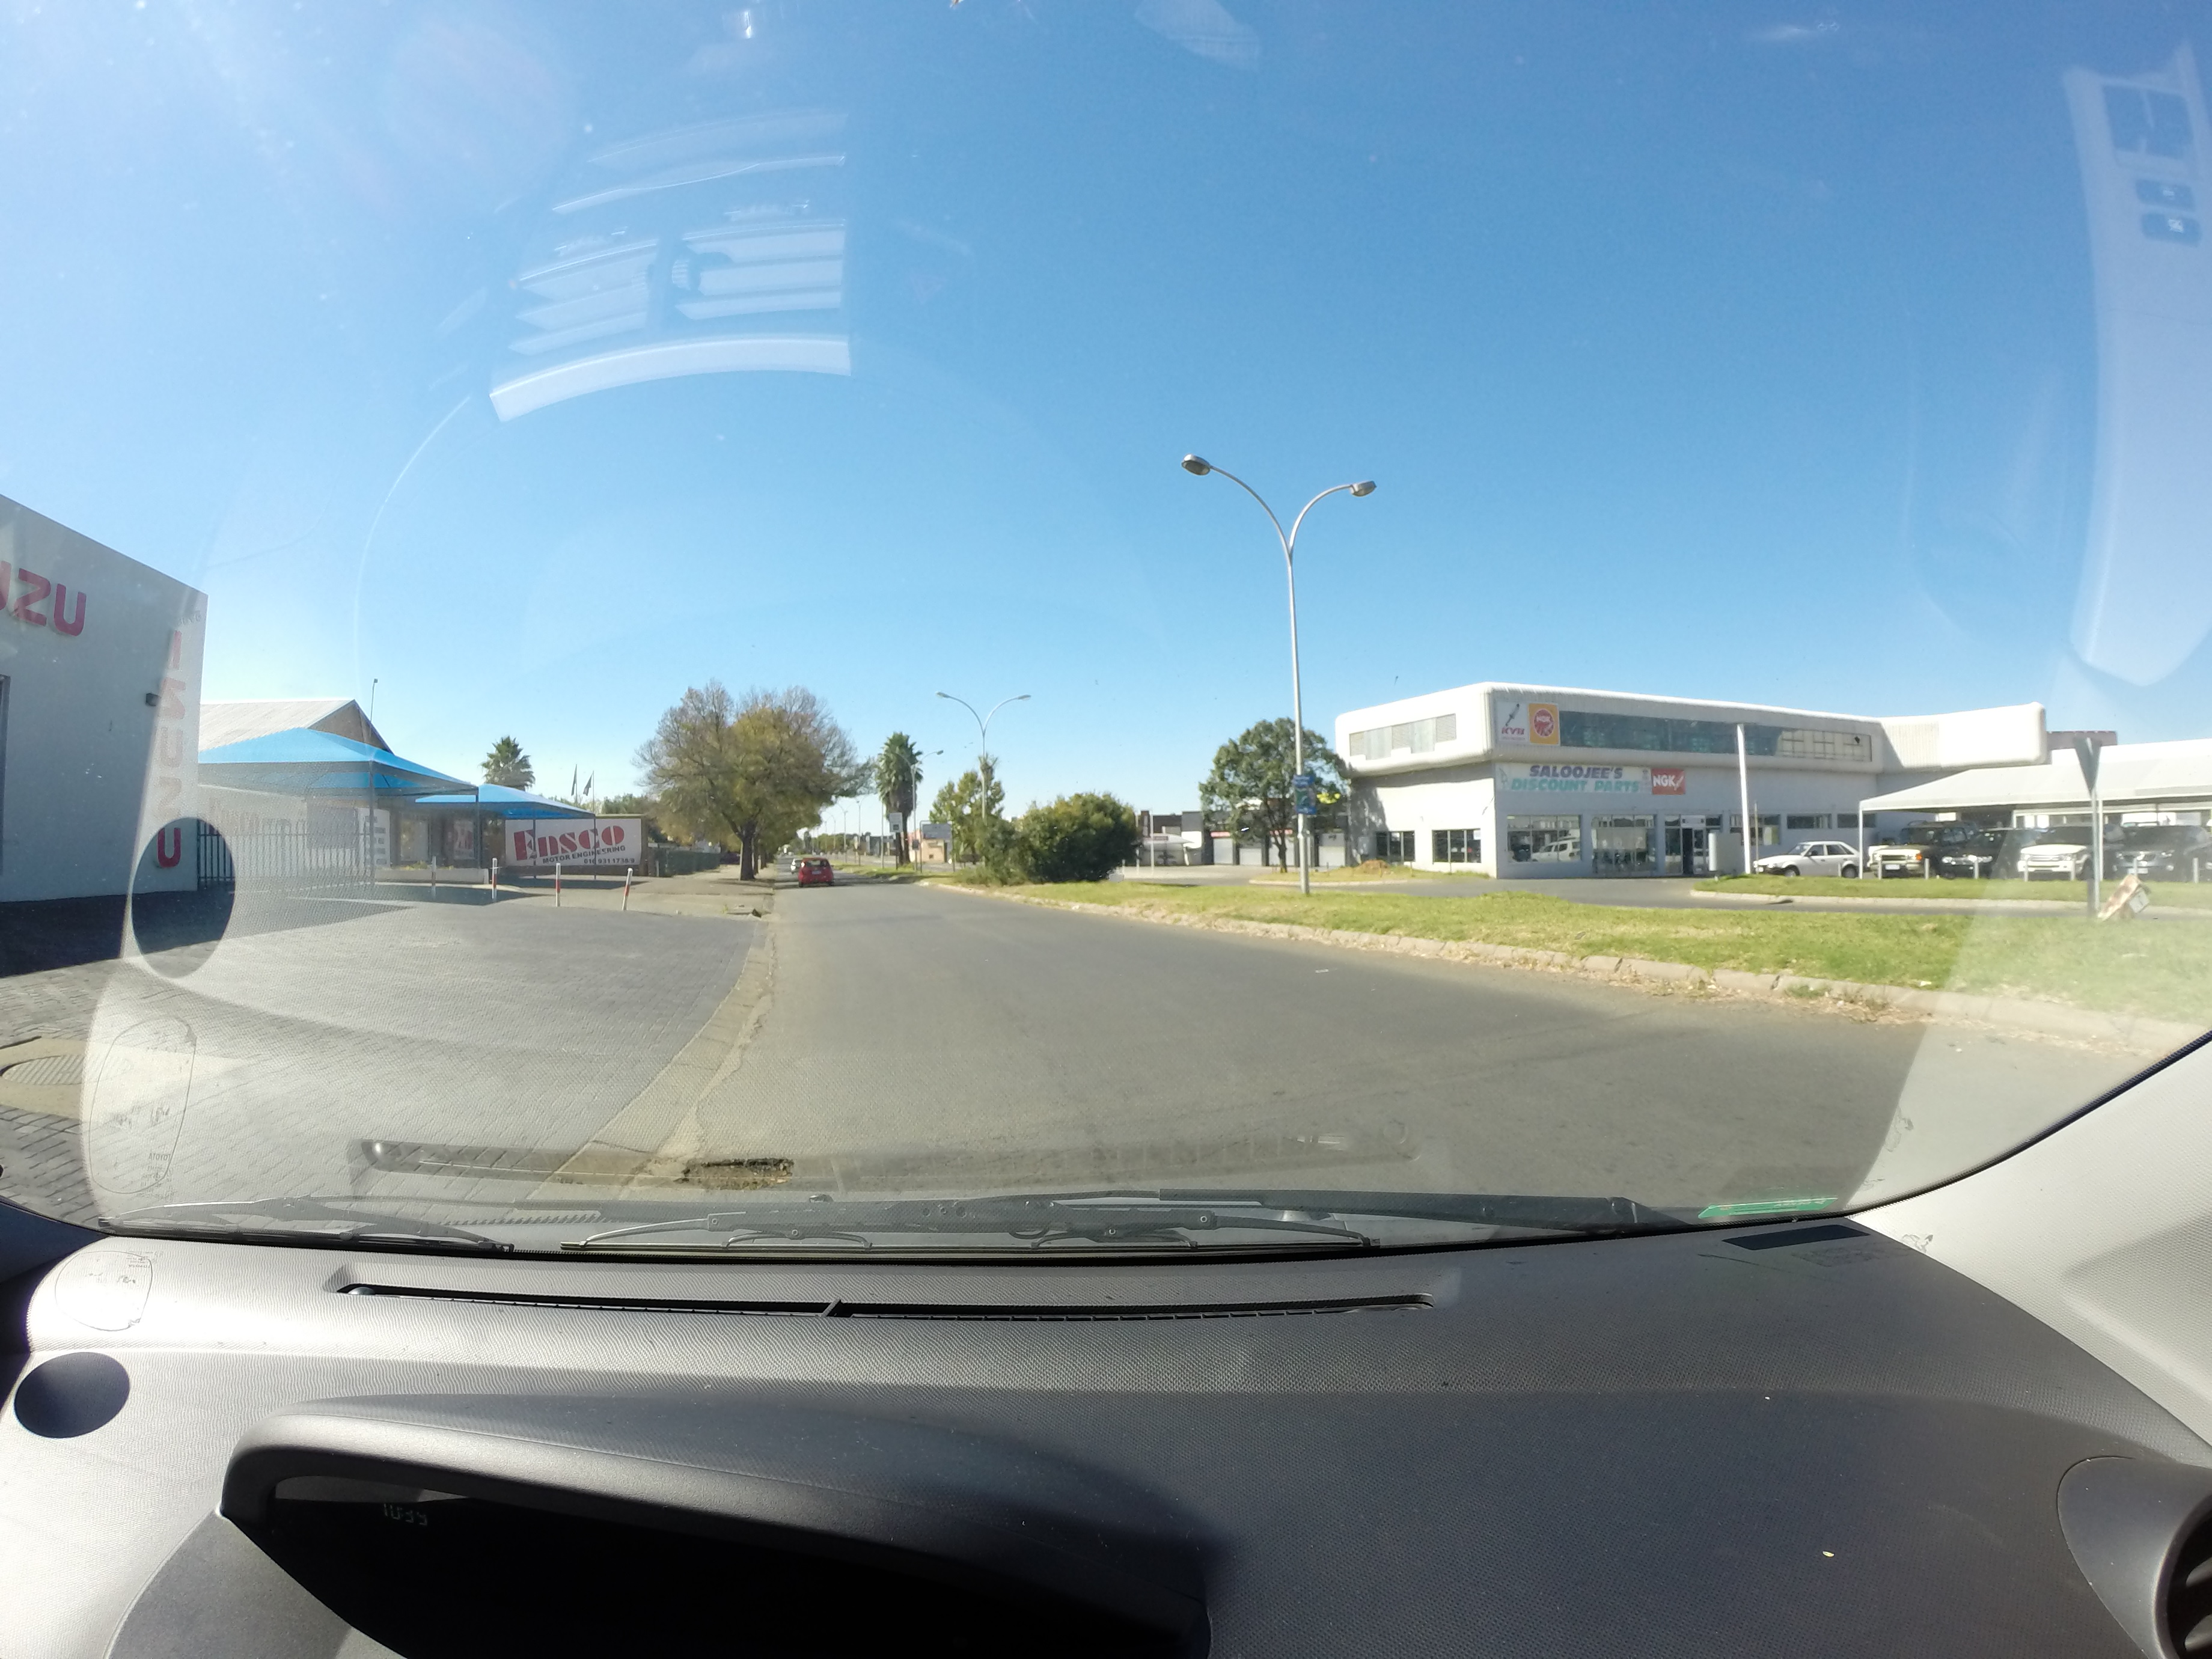pothole: (662, 1129, 819, 1182)
